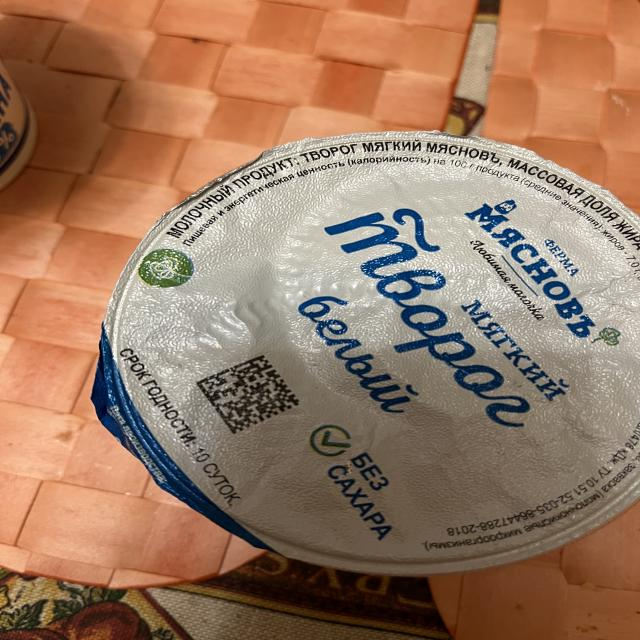datamatrix: (197, 355, 302, 436)
